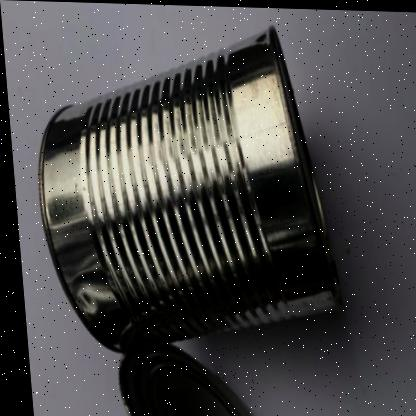Metal: (36, 26, 336, 416)
